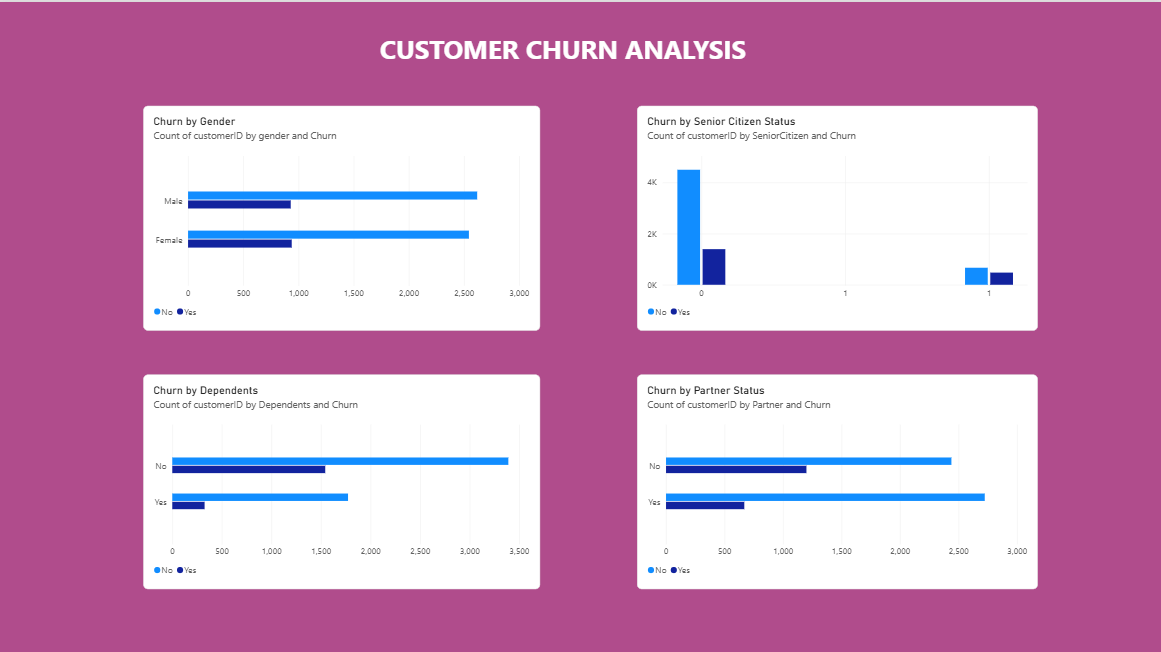

What the dashboard file says about the page in this screenshot:
{"tool":"powerbi","page":{"name":"churn analysis","canvas":[1920,1080],"ordinal":1},"visuals":[{"type":"clusteredBarChart","title":"Churn by Gender","fields":{"Category":["WA_Fn-UseC_-Telco-Customer-Churn.gender"],"Series":["WA_Fn-UseC_-Telco-Customer-Churn.Churn"],"Y":["CountNonNull(WA_Fn-UseC_-Telco-Customer-Churn.customerID)"]},"box":[240,170,653.3,370],"z":0},{"type":"clusteredBarChart","title":"Churn by Dependents","fields":{"Category":["WA_Fn-UseC_-Telco-Customer-Churn.Dependents"],"Series":["WA_Fn-UseC_-Telco-Customer-Churn.Churn"],"Y":["CountNonNull(WA_Fn-UseC_-Telco-Customer-Churn.customerID)"]},"box":[240,613.3,653.3,353.3],"z":1000},{"type":"clusteredBarChart","title":"Churn by Partner Status","fields":{"Category":["WA_Fn-UseC_-Telco-Customer-Churn.Partner"],"Series":["WA_Fn-UseC_-Telco-Customer-Churn.Churn"],"Y":["CountNonNull(WA_Fn-UseC_-Telco-Customer-Churn.customerID)"]},"box":[1053.3,613.3,660,353.3],"z":2000},{"type":"clusteredColumnChart","title":"Churn by Senior Citizen Status","fields":{"Category":["WA_Fn-UseC_-Telco-Customer-Churn.SeniorCitizen"],"Series":["WA_Fn-UseC_-Telco-Customer-Churn.Churn"],"Y":["CountNonNull(WA_Fn-UseC_-Telco-Customer-Churn.customerID)"]},"box":[1053.3,170,660,370],"z":3000},{"type":"textbox","box":[150,46.7,1563.3,150],"z":4000}]}

Visuals, with their boxes in screenshot pixels (x1, y1, x2, y2), scaled from the page's 1920x1080 canvas onto the 1161x652 screenshot:
"Churn by Gender" clusteredBarChart: box(145, 103, 540, 326)
"Churn by Dependents" clusteredBarChart: box(145, 370, 540, 584)
"Churn by Partner Status" clusteredBarChart: box(637, 370, 1036, 584)
"Churn by Senior Citizen Status" clusteredColumnChart: box(637, 103, 1036, 326)
textbox: box(91, 28, 1036, 119)
